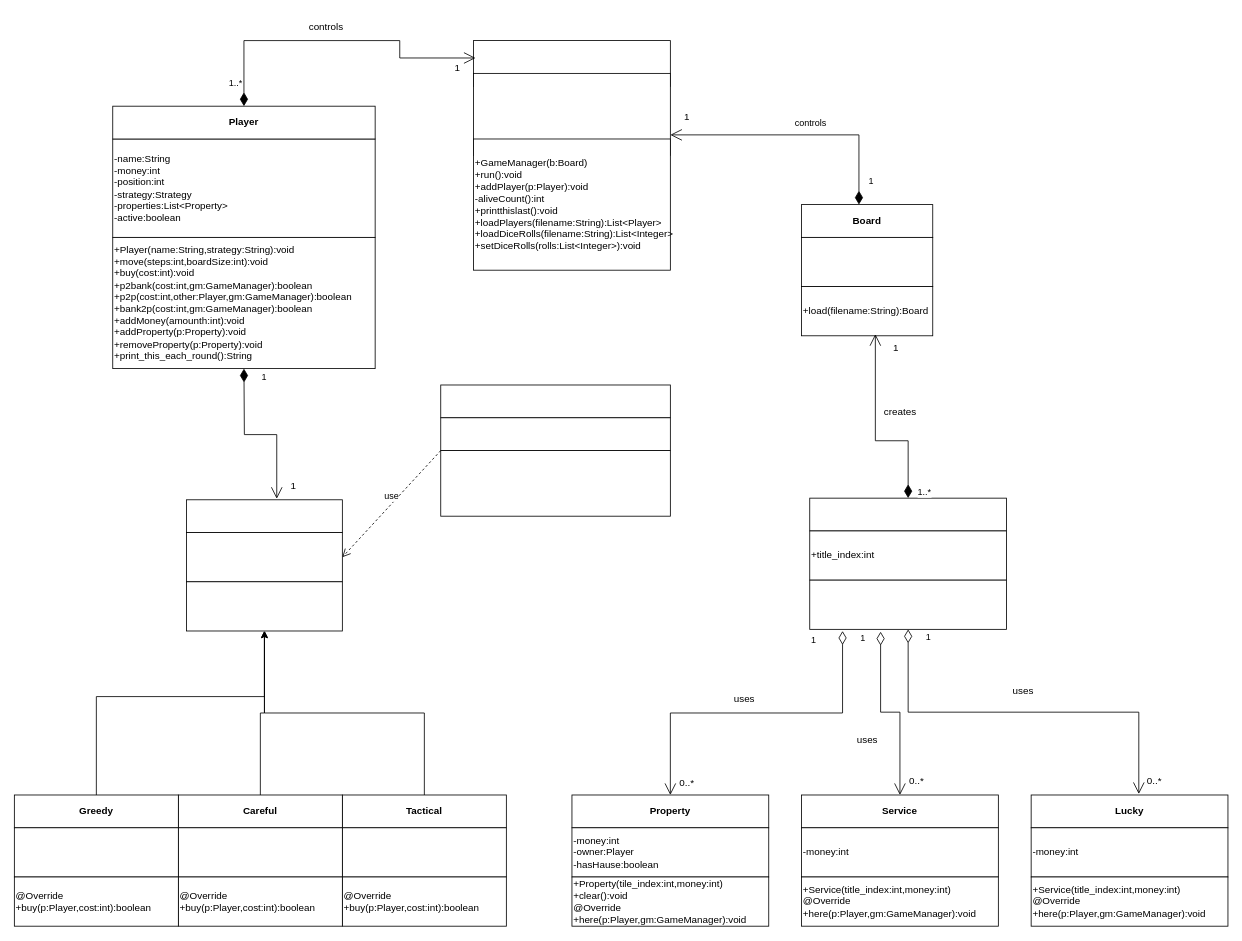
Some shapes in this 1242 by 941 pixel diagram are drawn without their labels. Here are the shapes that lost their labels. From the top down, the box of each, then its label:
(473, 40, 670, 87): GameManager
(473, 73, 670, 155): -board:Board -players:ArrList<Player> -diceRolls:ArrList<Integer>
(801, 237, 933, 287): -fileds:ArrList<Field>
(440, 384, 670, 418): StrategyFactory
(440, 450, 670, 516): +createstrategy(type:String):Strategy
(186, 499, 342, 533): Strategy
(809, 497, 1007, 531): Field
(186, 581, 342, 631): +buy(p:Player,cost:int):boolean
(809, 579, 1007, 629): +Field(title_index:int) +here(p:player,gm:GameManager):void
